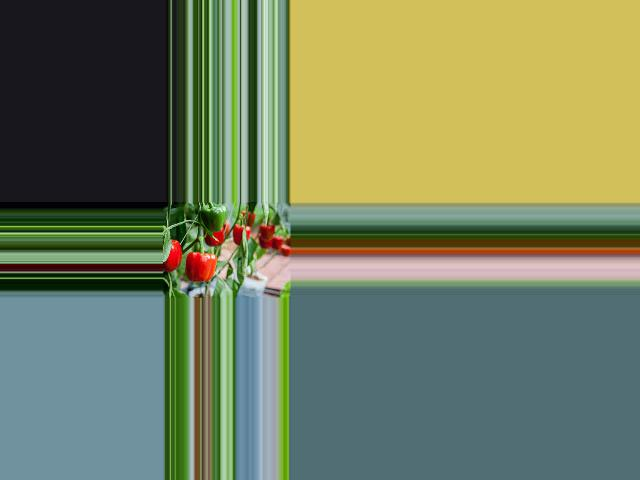bell_pepper: (233, 219, 252, 250)
